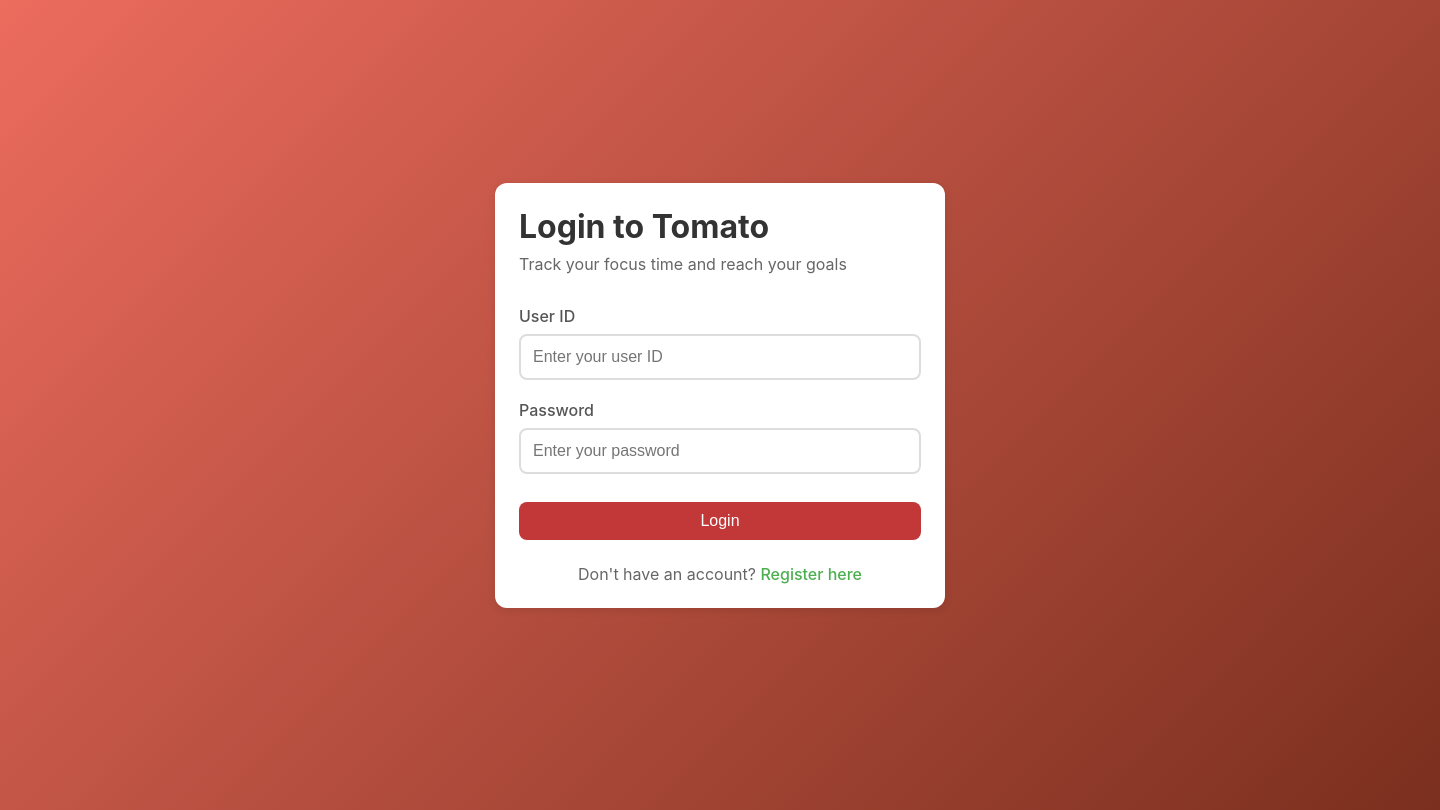
Test: Login Component › should disable inputs while loading
The image size is (1440, 810).
In the field labelled "User ID": coordinates (720, 356) [519,334,921,380], type "testuser"
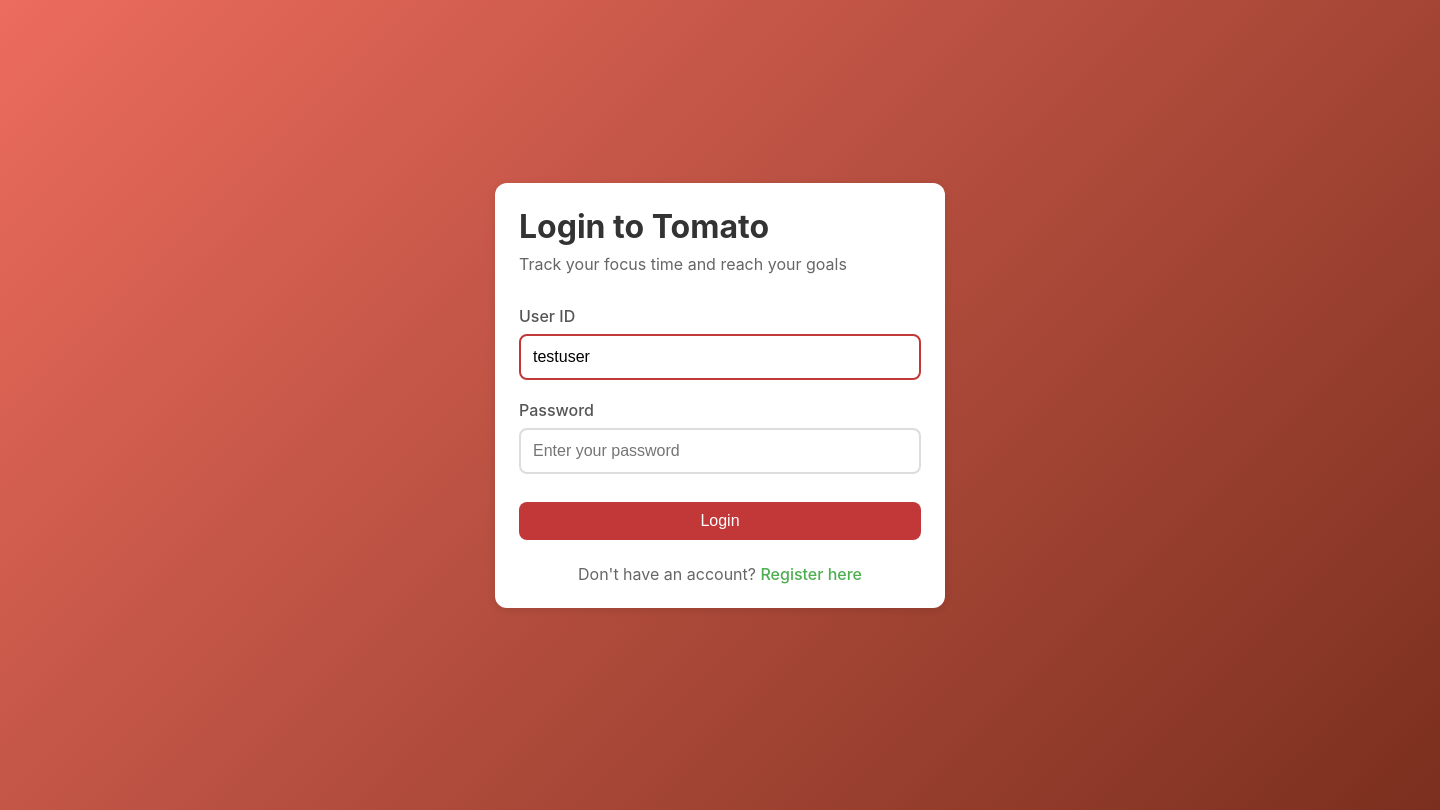
In the password field labelled "Password": coordinates (720, 450) [519,428,921,474], type "password123"
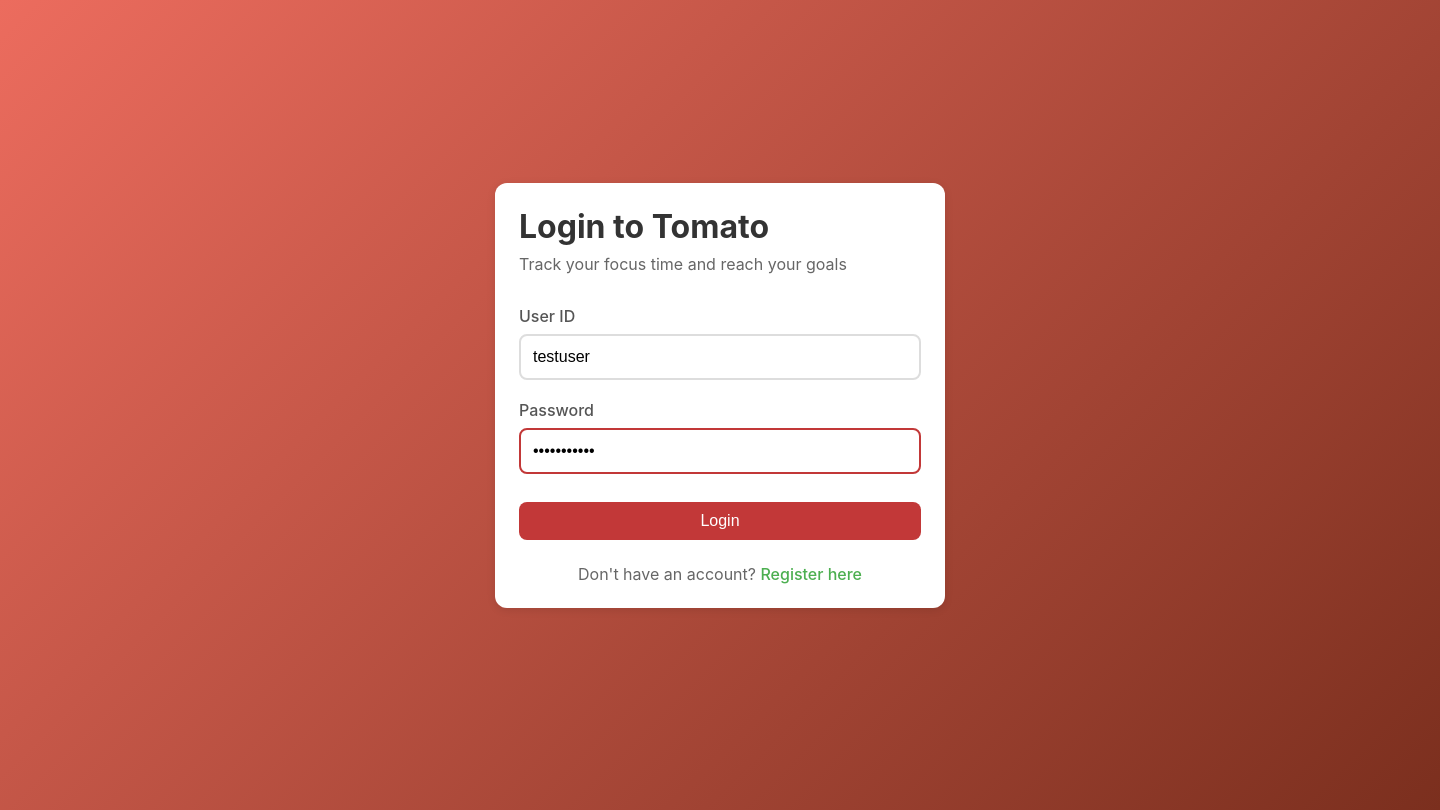
Click the button "Login": coordinates (720, 520) [519,502,921,540]
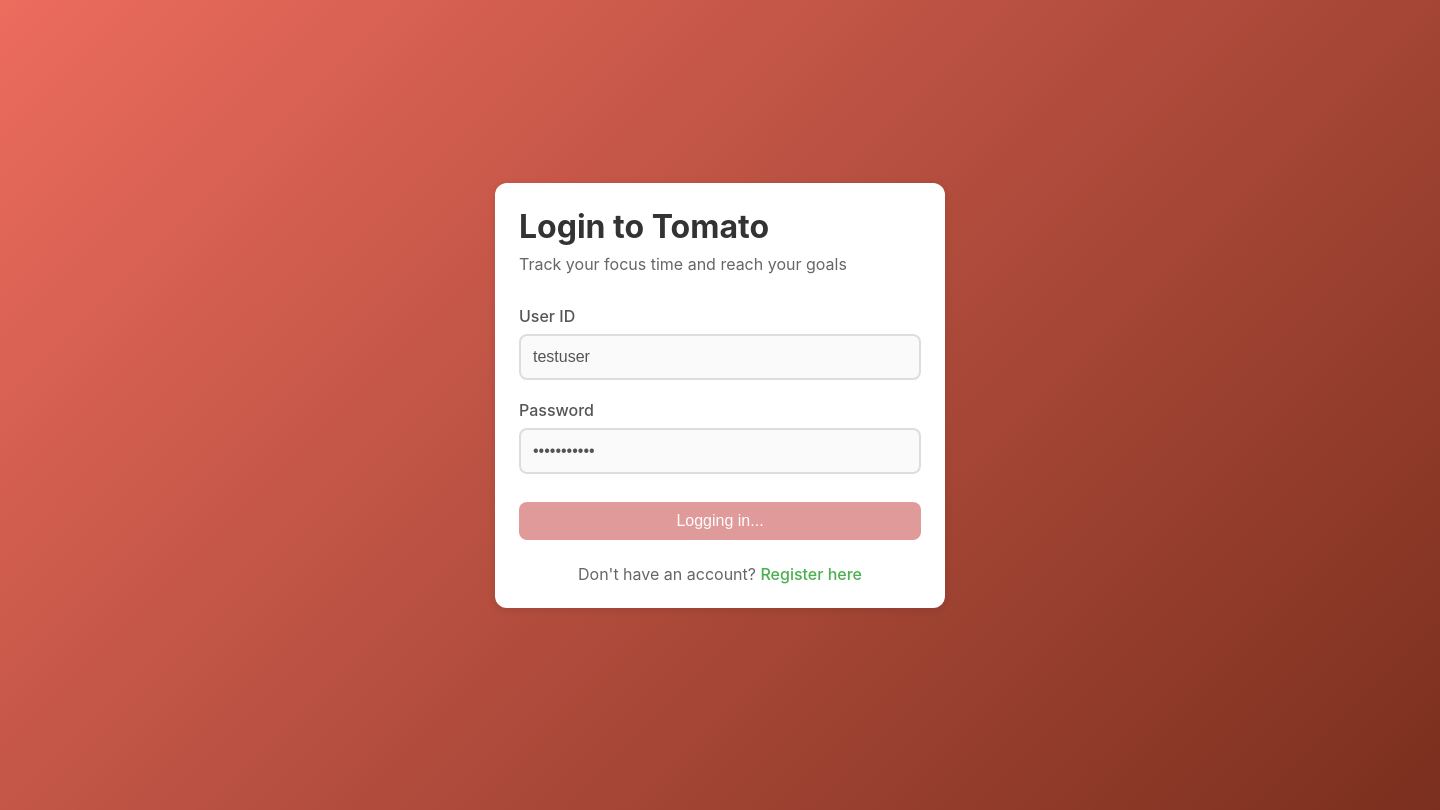
Now the field labelled "User ID" is disabled, box [519,334,921,380]
Now the password field labelled "Password" is disabled, box [519,428,921,474]
Now the button "Logging in..." is disabled, box [519,502,921,540]
